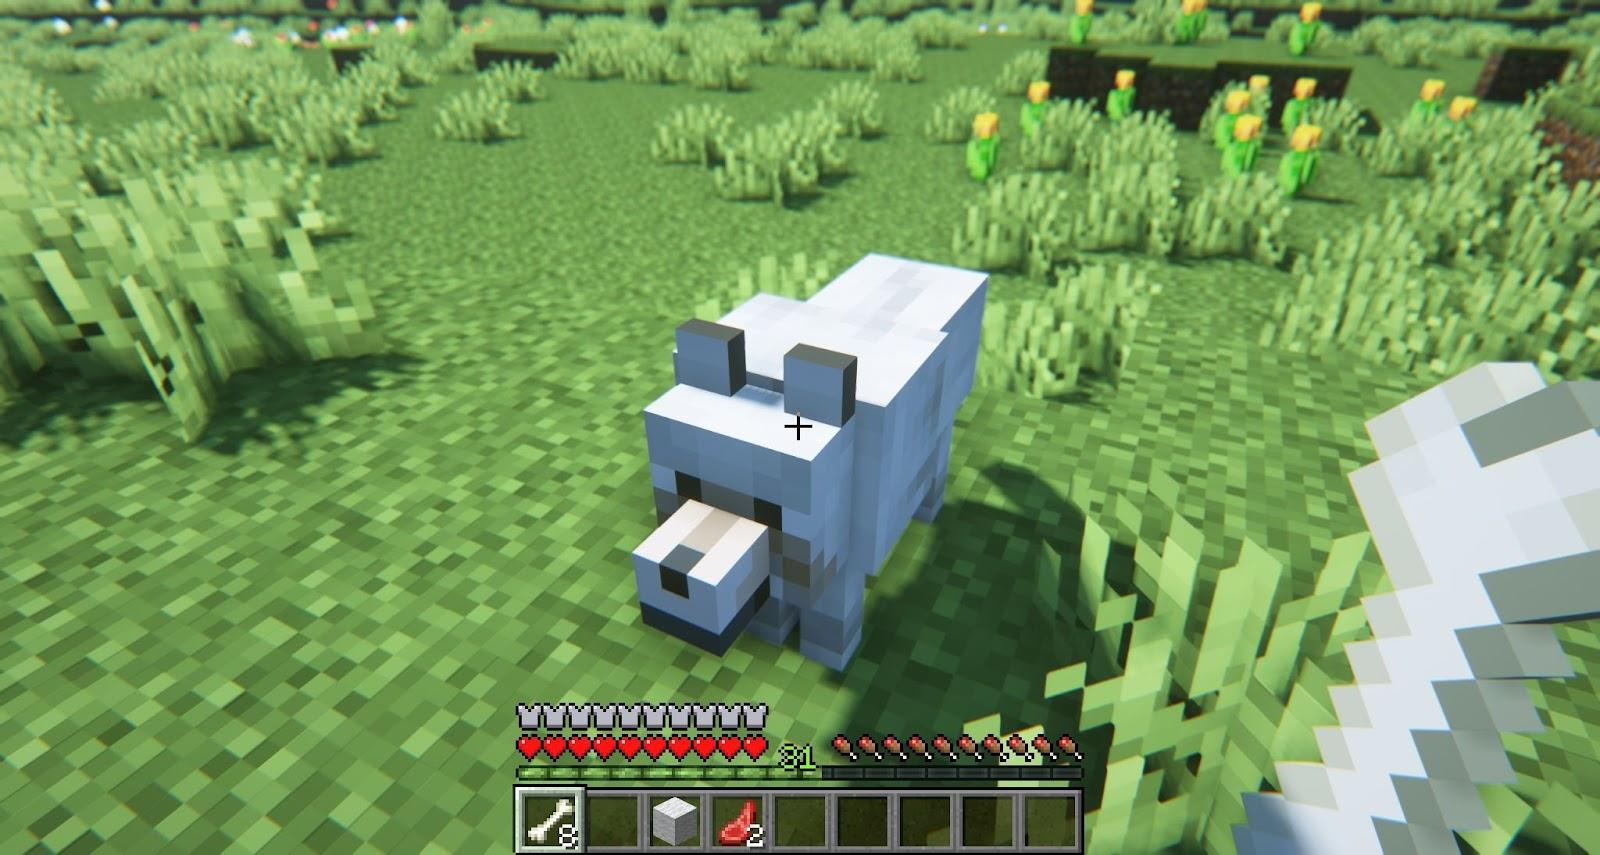wolf: (635, 251, 989, 666)
